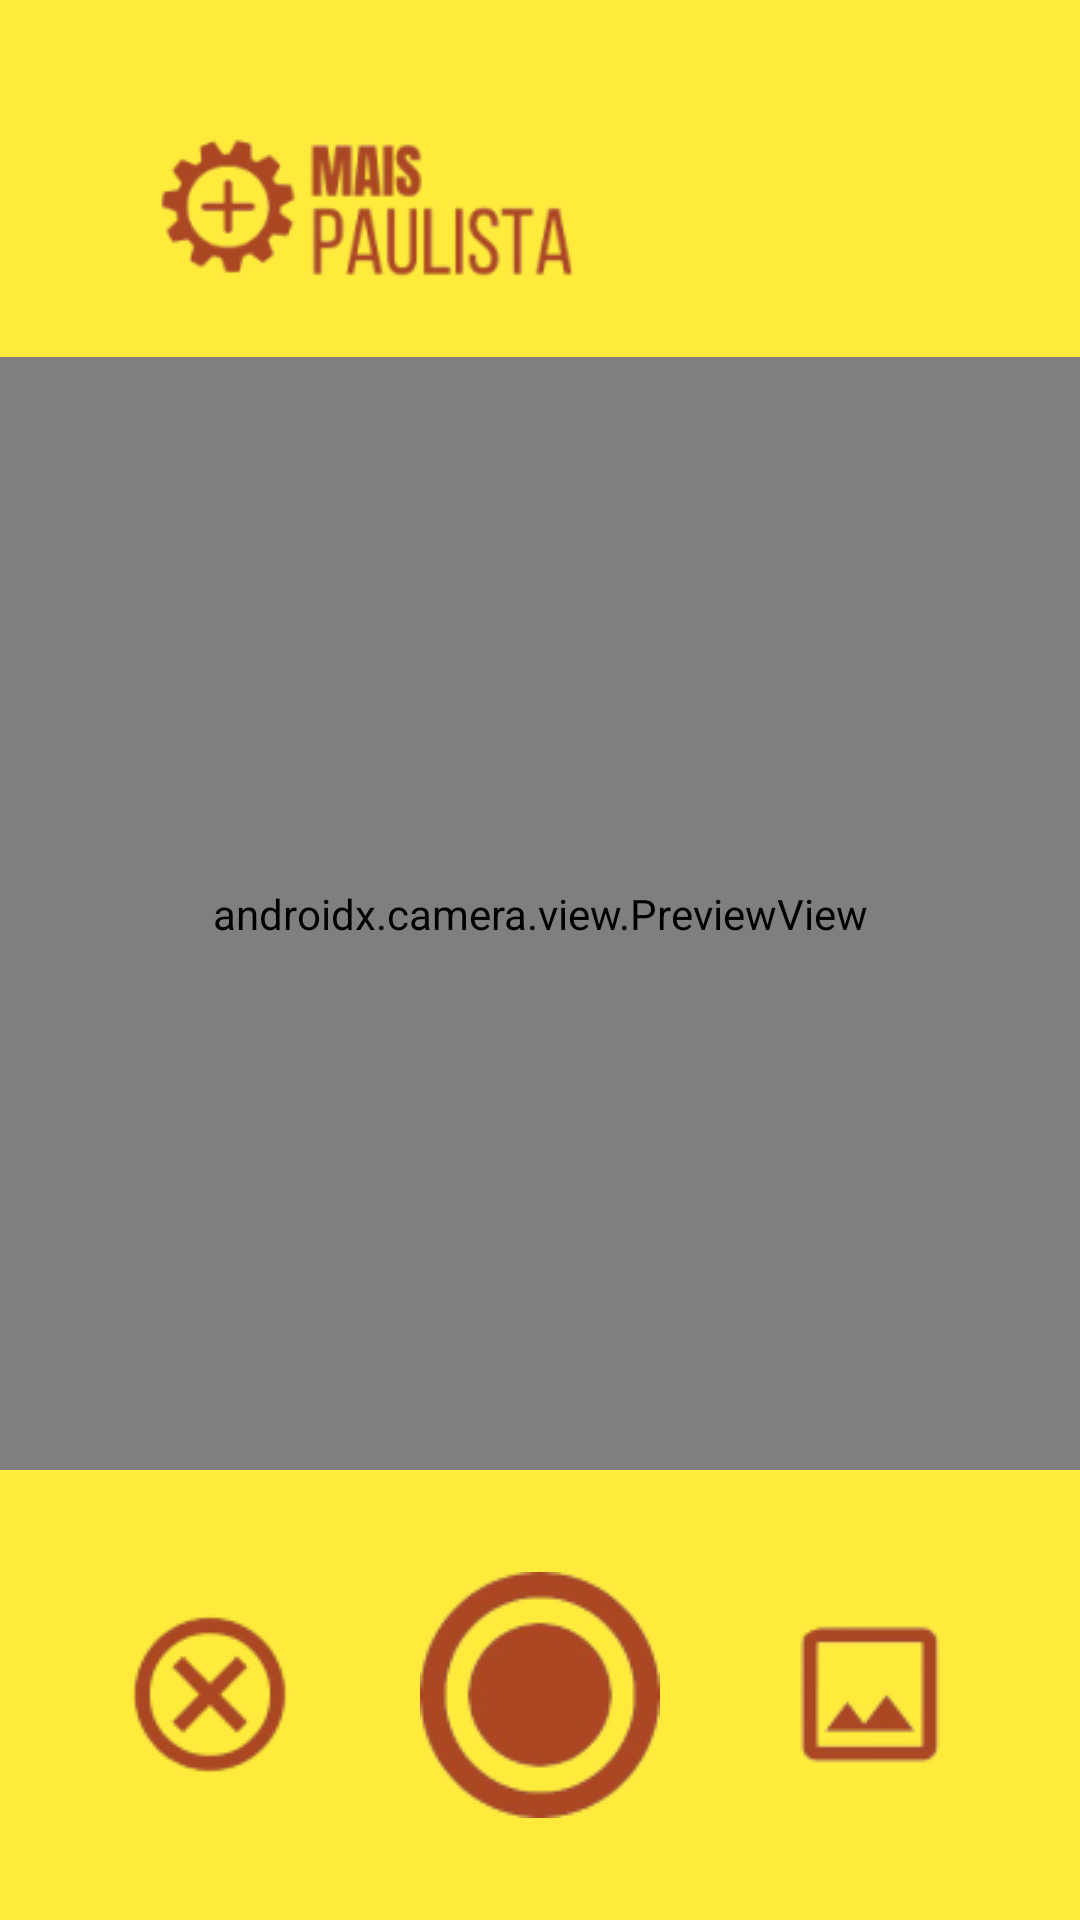

Named icons in this screenshot (1080 x 1920) and their bounding boxes, bbox=[x1, y1, x2, y2]:
Cancelar: bbox=[134, 1617, 286, 1772]
Galeria: bbox=[801, 1626, 939, 1762]
Tirar Foto: bbox=[420, 1572, 660, 1818]
